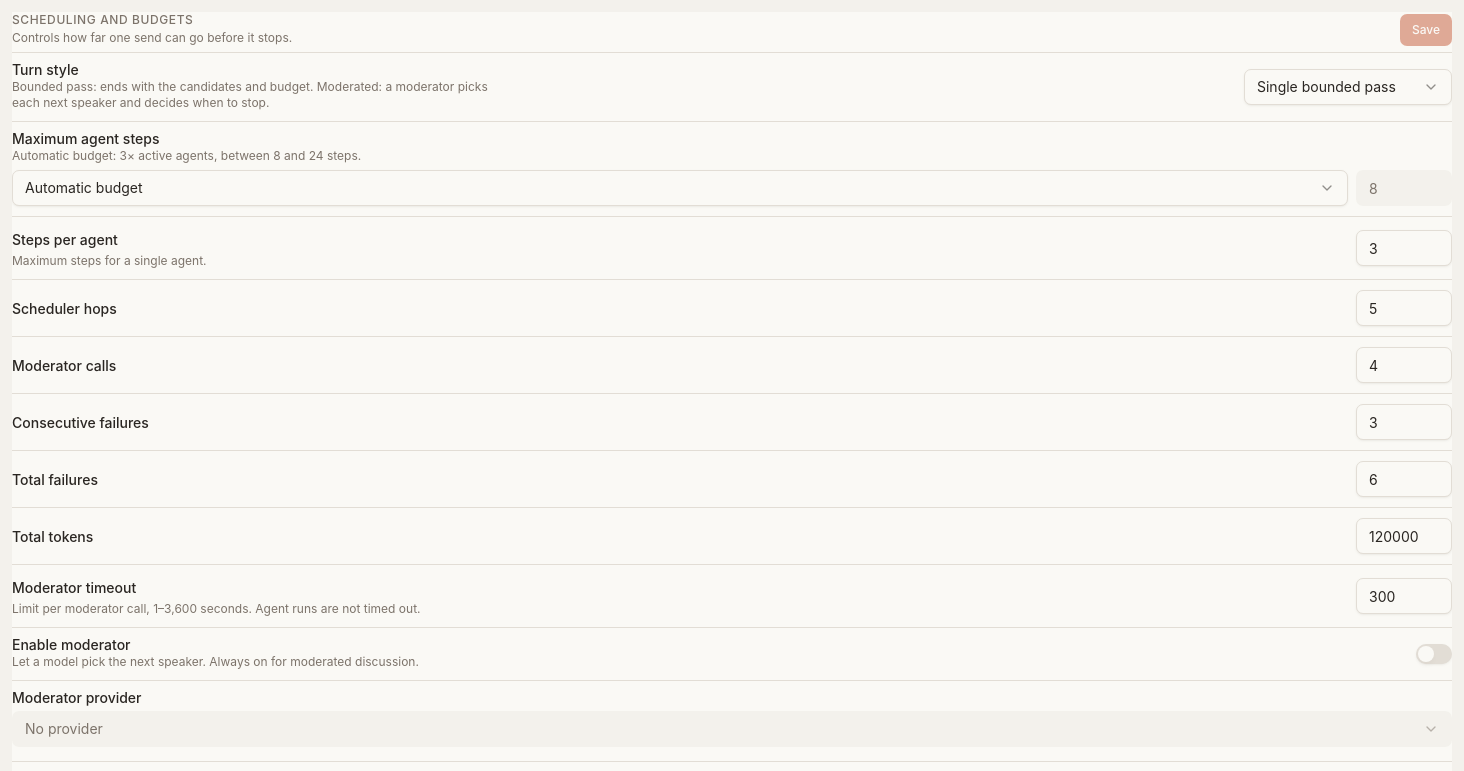
GroupSchedulerSettingsSection › does not mutate when numeric input is outside backend bounds
Replace the text in the number field labelled "Steps per agent" with "0": point(1404, 248) x1=1356 y1=230 x2=1452 y2=266
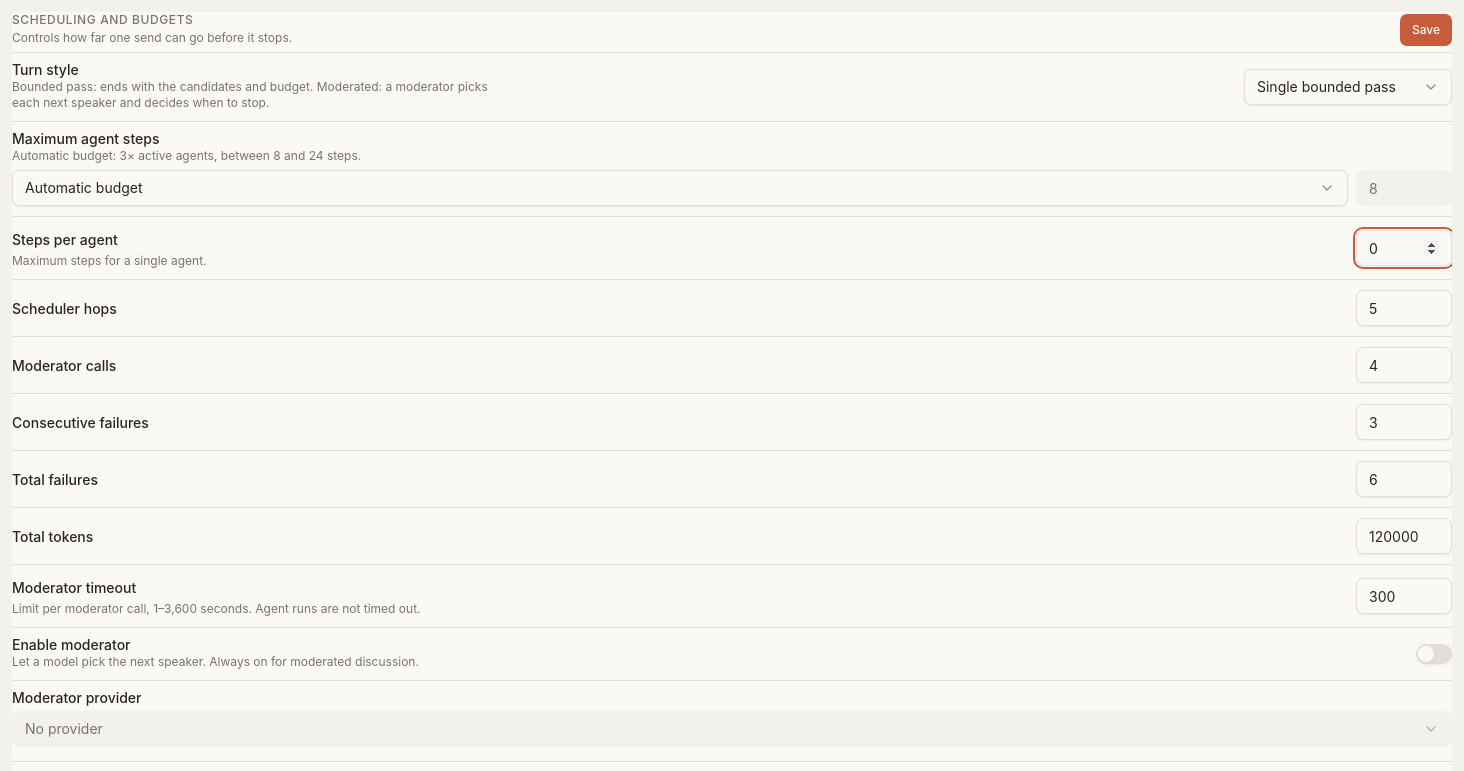
Click the button "Save": point(1426, 30) x1=1400 y1=14 x2=1452 y2=46
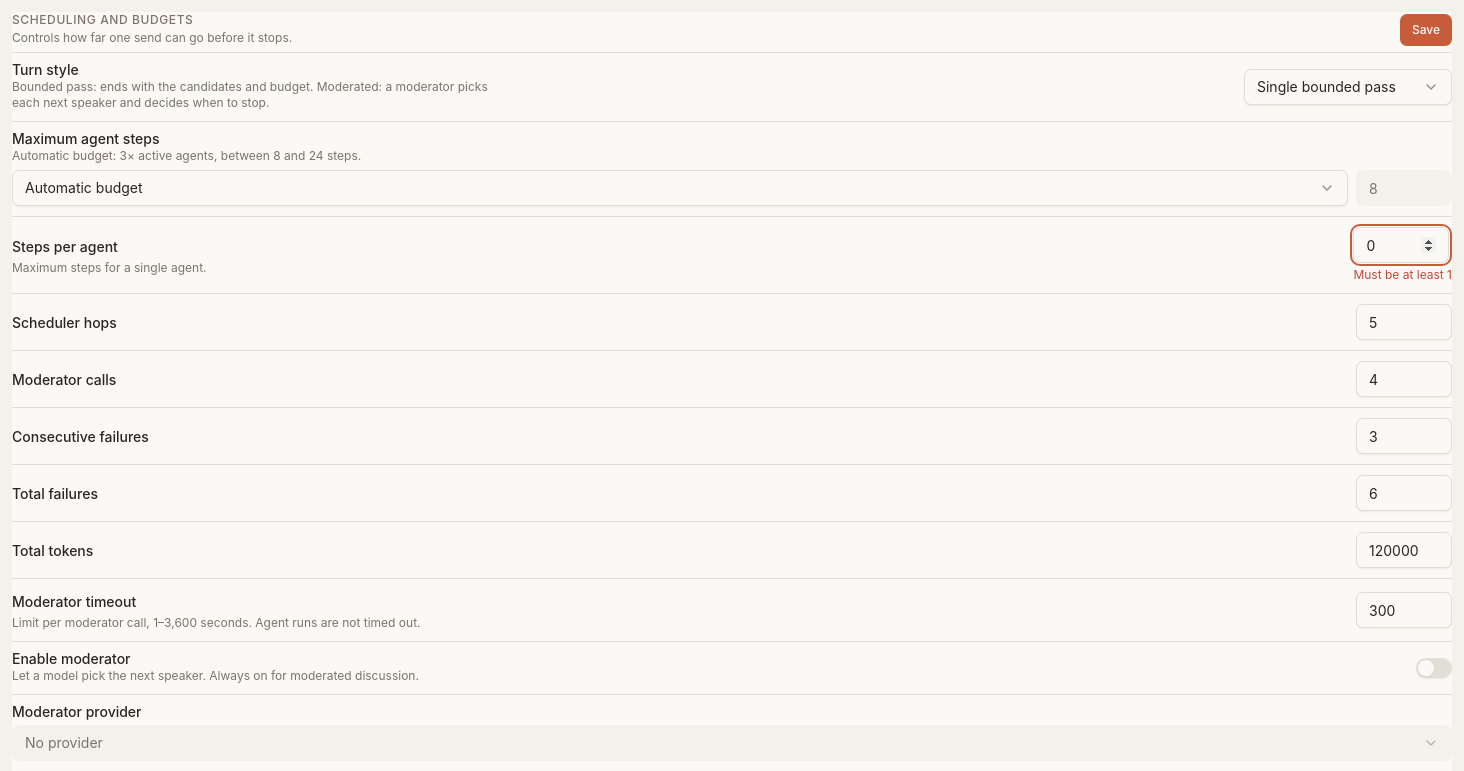
Result: the text "Must be at least 1" is shown at x1=1353 y1=267 x2=1452 y2=283
